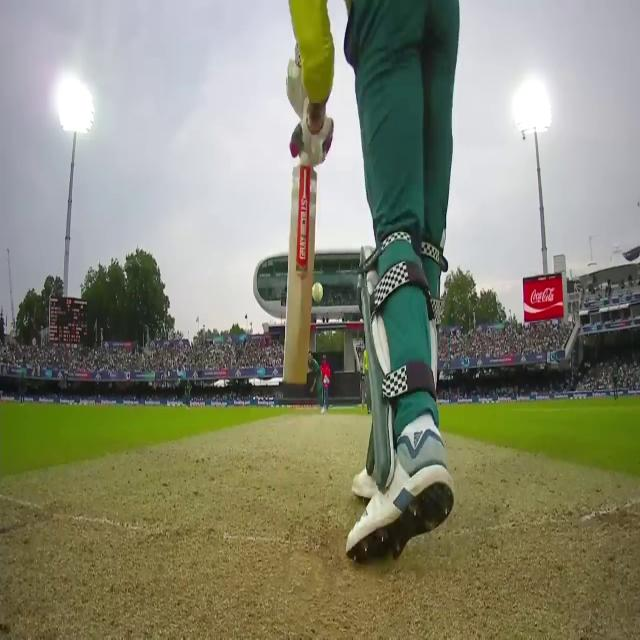ball: (309, 279, 325, 304)
